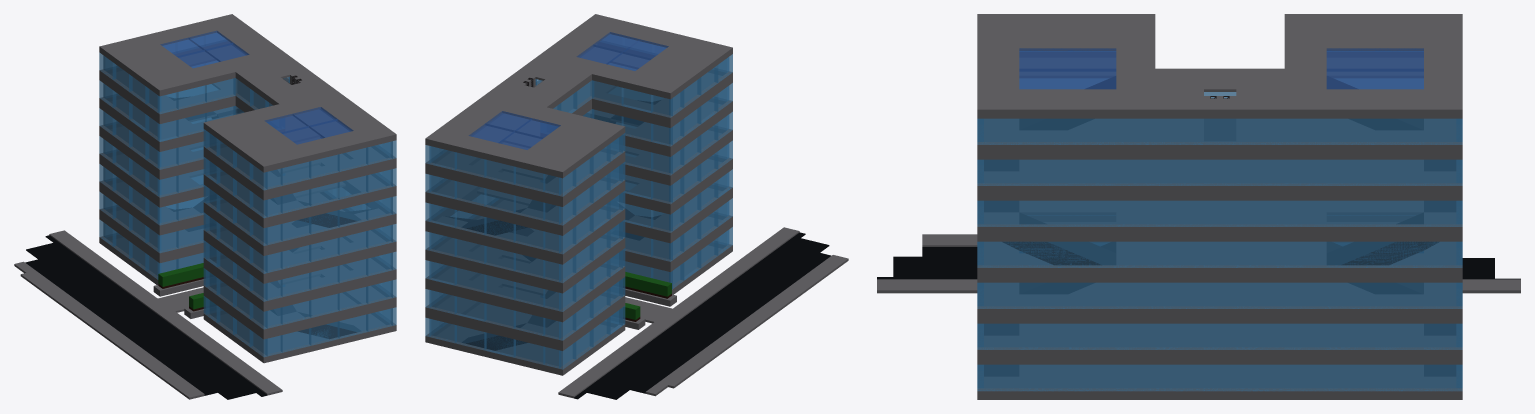
Rendered from map_3.obj.
3 renders of one model, left to right at view 1: azimuth 30°, elevation 25°; view 2: azimuth 150°, elevation 25°; view 3: azimuth 270°, elevation 25°, orthographic. The views are drawn at different scales.
Visible parts, largest first — view 1: Part4, Part7, Part14, Part5, Part8, Part9, Part10, Part11, Part13, Part15, Part6, Parta11 (+125 smaller); view 2: Part4, Part5, Part7, Part8, Part10, Part14, Part17, Part6, Part9, Part11, Parta11, Part13 (+116 smaller); view 3: Part4, Window251, Window232, Window237, Window252, Window235, Window241, Window24, Window62, Window100, Window138, Window176 (+185 smaller).
Boxes of the visible parts, x1,y1,x2,y2 form: Part4: [191, 372, 251, 395]; Part7: [151, 343, 209, 364]; Part14: [59, 276, 117, 296]; Part5: [177, 363, 236, 383]; Part8: [138, 334, 196, 354]; Part9: [125, 324, 183, 344]; Part10: [112, 314, 170, 335]; Part11: [99, 305, 157, 325]; Part13: [72, 286, 130, 306]; Part15: [46, 266, 104, 287]; Part6: [164, 353, 223, 373]; Parta11: [85, 295, 143, 316]; Part4: [768, 244, 831, 267]; Part5: [754, 255, 815, 276]; Part7: [727, 275, 788, 296]; Part8: [714, 285, 774, 306]; Part10: [686, 305, 747, 326]; Part14: [632, 345, 692, 366]; Part17: [605, 365, 665, 386]; Part6: [741, 265, 801, 286]; Part9: [700, 295, 760, 316]; Part11: [673, 315, 733, 336]; Parta11: [659, 325, 719, 346]; Part13: [646, 335, 706, 356]; Part4: [922, 247, 967, 279]; Window251: [1326, 364, 1375, 391]; Window232: [1019, 364, 1067, 391]; Window237: [1155, 364, 1203, 391]; Window252: [1375, 364, 1423, 391]; Window235: [1068, 364, 1116, 391]; Window241: [1236, 364, 1284, 391]; Window24: [1326, 118, 1375, 144]; Window62: [1326, 159, 1375, 185]; Window100: [1326, 241, 1375, 267]; Window138: [1326, 200, 1375, 226]; Window176: [1326, 282, 1375, 308].
Size of the model in its own units: 119 by 99 by 199.
